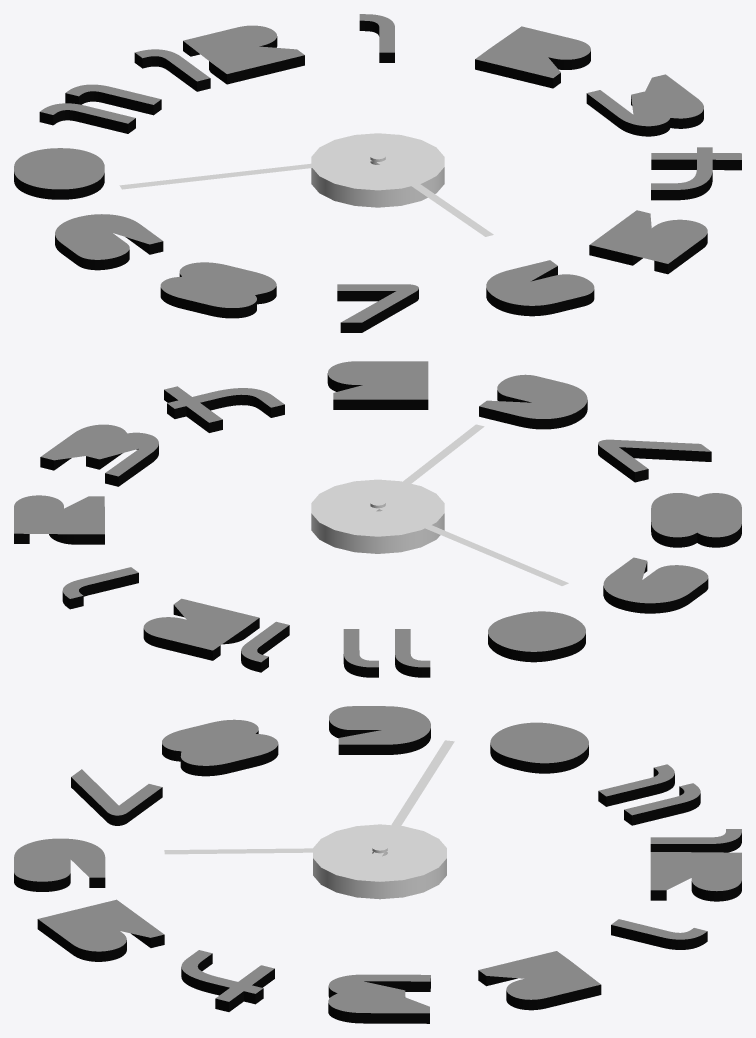
Rendered from Oclock1.FBX.
The picture shows the model from 3 angles, top to bottom: view 1: azimuth 30°, elevation 25°; view 2: azimuth 150°, elevation 25°; view 3: azimuth 270°, elevation 25°; orthographic projection.
Visible parts, largest first — view 1: Text011, Clock, Plane002; view 2: Text011, Clock, Plane002; view 3: Text011, Clock, Plane002.
Boxes of the visible parts, x1,y1,x2,y2 form: Text011: (14,14,741,332); Clock: (311,133,444,207); Plane002: (119,147,493,236); Text011: (14,361,741,677); Clock: (311,479,444,553); Plane002: (335,424,568,585); Text011: (14,706,741,1023); Clock: (313,824,446,899); Plane002: (164,740,454,872).
Bounding box in the file's own units: 74.71 × 2.63 × 74.79.
Materials: 1 (1 with a texture image).
